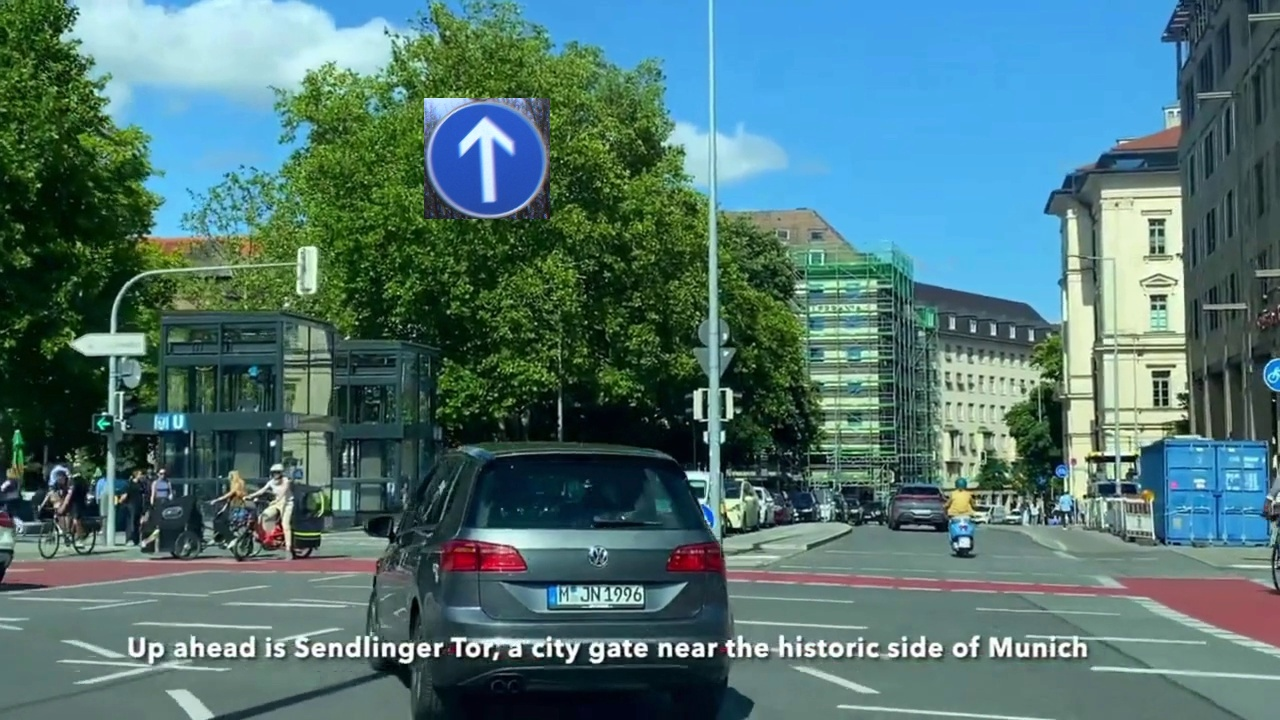Ahead only: (424, 98, 550, 219)
